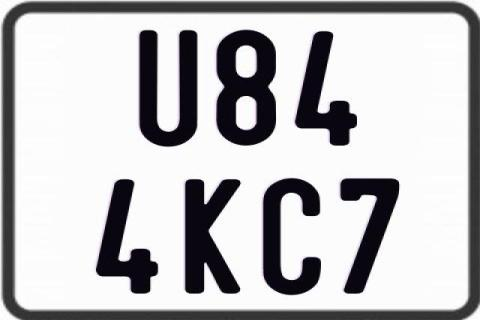0: (95, 178, 161, 294), (215, 28, 279, 146), (337, 178, 399, 298), (295, 29, 359, 145)
C: (264, 178, 327, 300)
K: (183, 177, 243, 295)
U: (139, 31, 200, 151)
